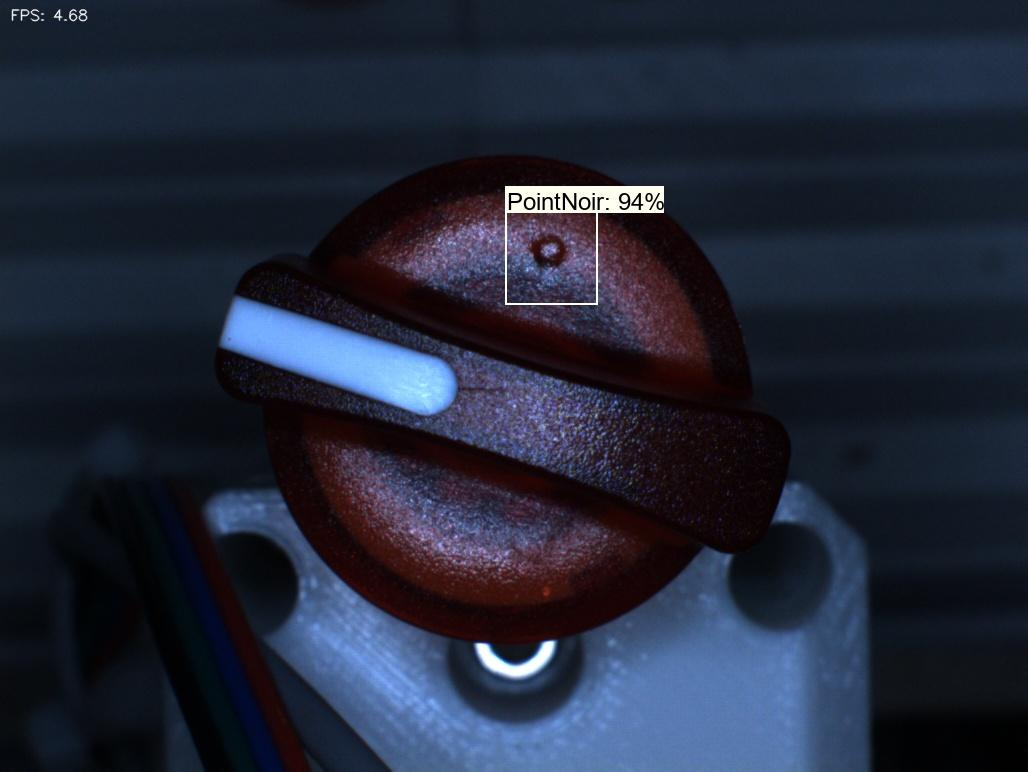Choc: (511, 215, 591, 297)
